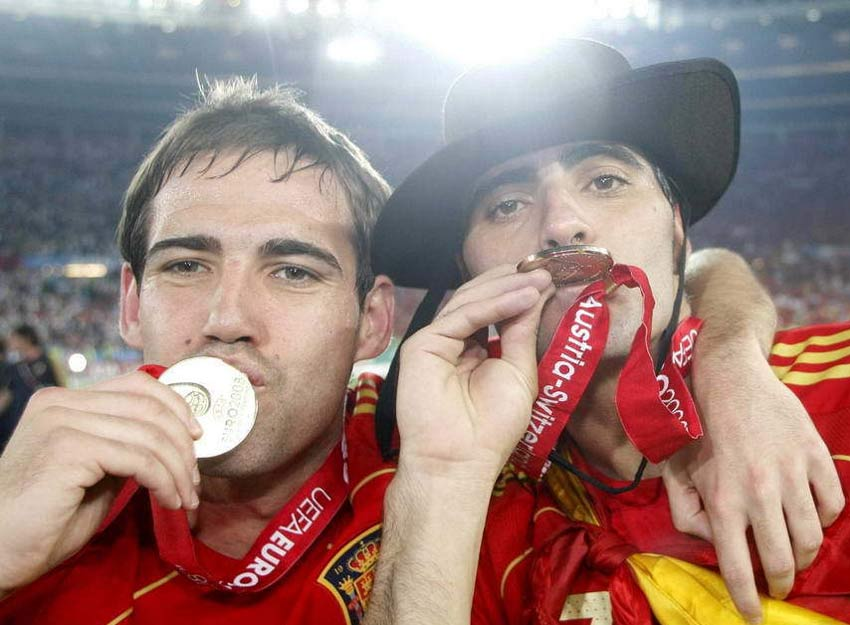face: (120, 149, 358, 477), (469, 126, 678, 373)
